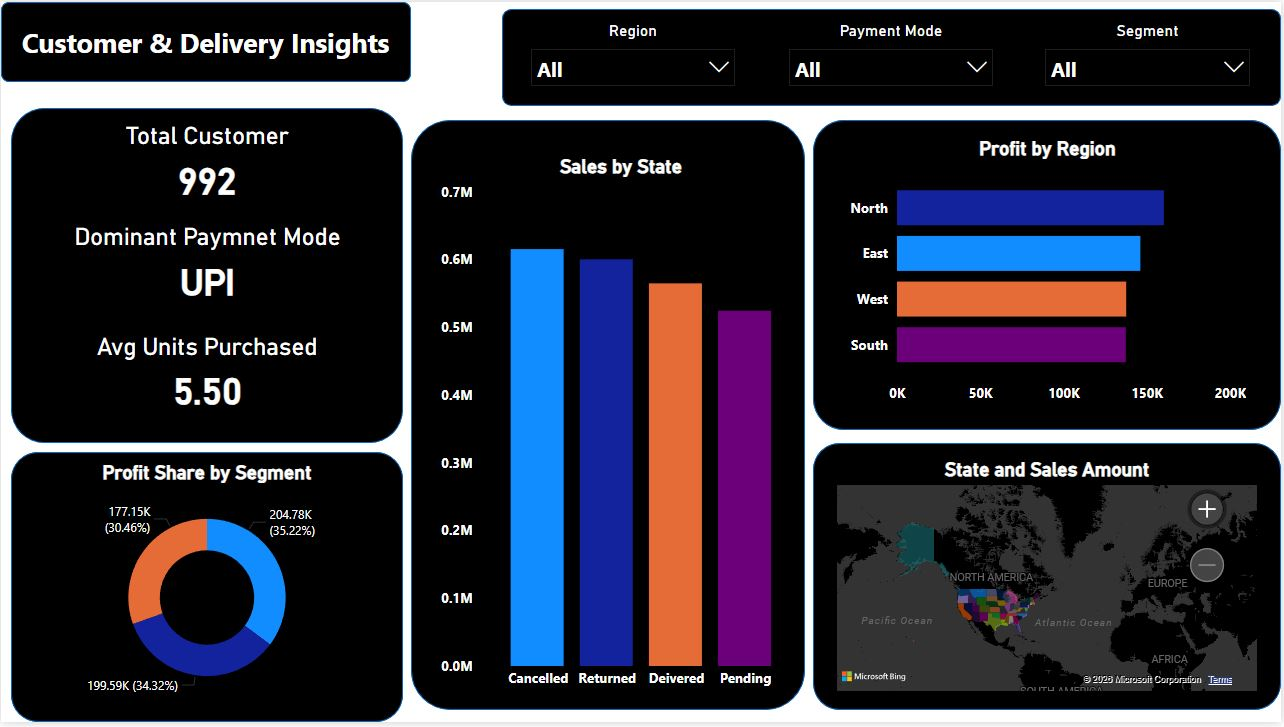

What the dashboard file says about the page in this screenshot:
{"tool":"powerbi","page":{"name":"Page 3","canvas":[1280,720],"ordinal":2},"visuals":[{"type":"textbox","box":[9.7,0,491.2,58.4],"z":0},{"type":"shape","box":[10,105.6,392.2,335.6],"z":1000},{"type":"shape","box":[812.2,117.8,467.8,310],"z":2000},{"type":"shape","box":[501.1,6.7,778.9,97.8],"z":3000},{"type":"slicer","title":"Payment Mode","fields":{"Values":["Superstore_Management_System.Payment Mode"]},"box":[777.8,18.9,224.4,85.6],"z":4000},{"type":"slicer","title":"Region","fields":{"Values":["Superstore_Management_System.Region"]},"box":[520,18.9,224.4,85.6],"z":5000},{"type":"slicer","title":"Segment","fields":{"Values":["Superstore_Management_System.Customer Segment"]},"box":[1034.4,18.9,224.4,85.6],"z":6000},{"type":"card","title":"Total Customer","fields":{"Values":["Count(Superstore_Management_System.Customer Name)"]},"box":[113.3,120,185.6,84.4],"z":7000},{"type":"card","title":"Dominant Paymnet Mode","fields":{"Values":["Superstore_Management_System.First Payment Mode max per Payment Mode"]},"box":[65,221.2,282.5,83.8],"z":8000},{"type":"card","title":"Avg Units Purchased","fields":{"Values":["Avg(Superstore_Management_System.Quantity)"]},"box":[88.8,331.2,233.8,81.2],"z":9000},{"type":"shape","box":[10,450,392.2,270],"z":10000},{"type":"shape","box":[410,117.8,394.4,590],"z":11000},{"type":"shape","box":[812.2,441.1,467.8,266.7],"z":12000},{"type":"columnChart","title":"Sales  by State","fields":{"Category":["Superstore_Management_System.Delivery Status"],"Y":["Sum(Superstore_Management_System.Sales Amount)"],"Series":["Superstore_Management_System.Delivery Status"]},"box":[435,152.5,370,542.5],"z":13000},{"type":"barChart","title":"Profit by Region","fields":{"Category":["Superstore_Management_System.Region"],"Y":["Sum(Superstore_Management_System.Profit)"],"Series":["Superstore_Management_System.Region"]},"box":[842.5,135,407.5,275],"z":14000},{"type":"filledMap","fields":{"Category":["Superstore_Management_System.State"],"Series":["Superstore_Management_System.Sales Amount"]},"box":[831.2,456.2,430,237.5],"z":15000},{"type":"donutChart","title":"Profit Share by Segment","fields":{"Category":["Superstore_Management_System.Customer Segment"],"Y":["Sum(Superstore_Management_System.Profit)"]},"box":[56.2,458.8,300,251.2],"z":16000},{"type":"shape","title":"Customer & Delivery Insights","box":[0,0,410,80],"z":17000}]}

Visuals, with their boxes in screenshot pixels (x1, y1, x2, y2), scaled from the page's 1280x720 canvas onto the 1284x727 screenshot:
textbox: l=10, t=0, r=502, b=59
shape: l=10, t=107, r=403, b=445
shape: l=815, t=119, r=1283, b=432
shape: l=503, t=7, r=1283, b=106
"Payment Mode" slicer: l=780, t=19, r=1005, b=106
"Region" slicer: l=522, t=19, r=747, b=106
"Segment" slicer: l=1038, t=19, r=1263, b=106
"Total Customer" card: l=114, t=121, r=300, b=206
"Dominant Paymnet Mode" card: l=65, t=223, r=349, b=308
"Avg Units Purchased" card: l=89, t=334, r=324, b=416
shape: l=10, t=454, r=403, b=726
shape: l=411, t=119, r=807, b=715
shape: l=815, t=445, r=1283, b=715
"Sales  by State" columnChart: l=436, t=154, r=808, b=702
"Profit by Region" barChart: l=845, t=136, r=1254, b=414
filledMap - Superstore_Management_System.State x Superstore_Management_System.Sales Amount: l=834, t=461, r=1265, b=700
"Profit Share by Segment" donutChart: l=56, t=463, r=357, b=717
"Customer & Delivery Insights" shape: l=0, t=0, r=411, b=81
